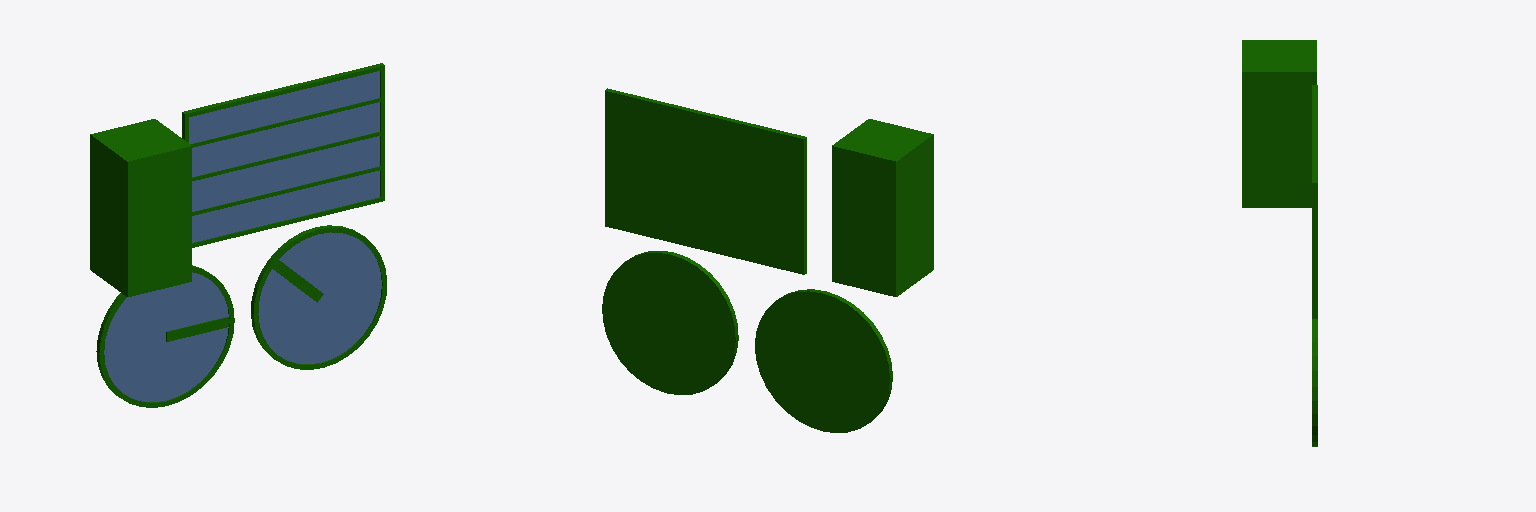
The model's file is etapVerde.obj.
3 views of the same model, side by side, from view 1: azimuth 30°, elevation 25°; view 2: azimuth 150°, elevation 25°; view 3: azimuth 270°, elevation 25° (orthographic).
Parts seen in each view (by area): view 1: Cube.002, Cube, Cylinder.002, Cylinder.001, Cube.001, Cylinder.003, Cylinder, Cube.004, Cube.003, Cube.005, Cube.006, Cube.007; view 2: Cube.001, Cube, Cylinder, Cylinder.003; view 3: Cube, Cube.001, Cylinder.003.
Part boxes in pixels (left/top/right/bottom): Cube.002: left=189, top=71, right=379, bottom=242; Cube: left=90, top=119, right=191, bottom=296; Cylinder.002: left=258, top=232, right=381, bottom=363; Cylinder.001: left=104, top=272, right=228, bottom=401; Cube.001: left=182, top=63, right=384, bottom=247; Cylinder.003: left=251, top=225, right=386, bottom=369; Cylinder: left=96, top=265, right=234, bottom=407; Cube.004: left=192, top=132, right=380, bottom=180; Cube.003: left=190, top=98, right=380, bottom=147; Cube.005: left=192, top=166, right=380, bottom=215; Cube.006: left=166, top=317, right=229, bottom=341; Cube.007: left=273, top=260, right=323, bottom=302; Cube.001: left=605, top=88, right=806, bottom=274; Cube: left=832, top=119, right=933, bottom=296; Cylinder: left=755, top=289, right=892, bottom=432; Cylinder.003: left=602, top=251, right=738, bottom=394; Cube: left=1242, top=40, right=1316, bottom=207; Cube.001: left=1312, top=85, right=1317, bottom=318; Cylinder.003: left=1312, top=319, right=1317, bottom=446.
Size of the model in its own units: 9.08 by 8.48 by 2.01.